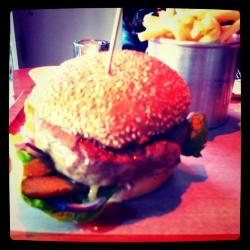burger: (21, 49, 195, 229)
fries: (144, 10, 239, 48)
